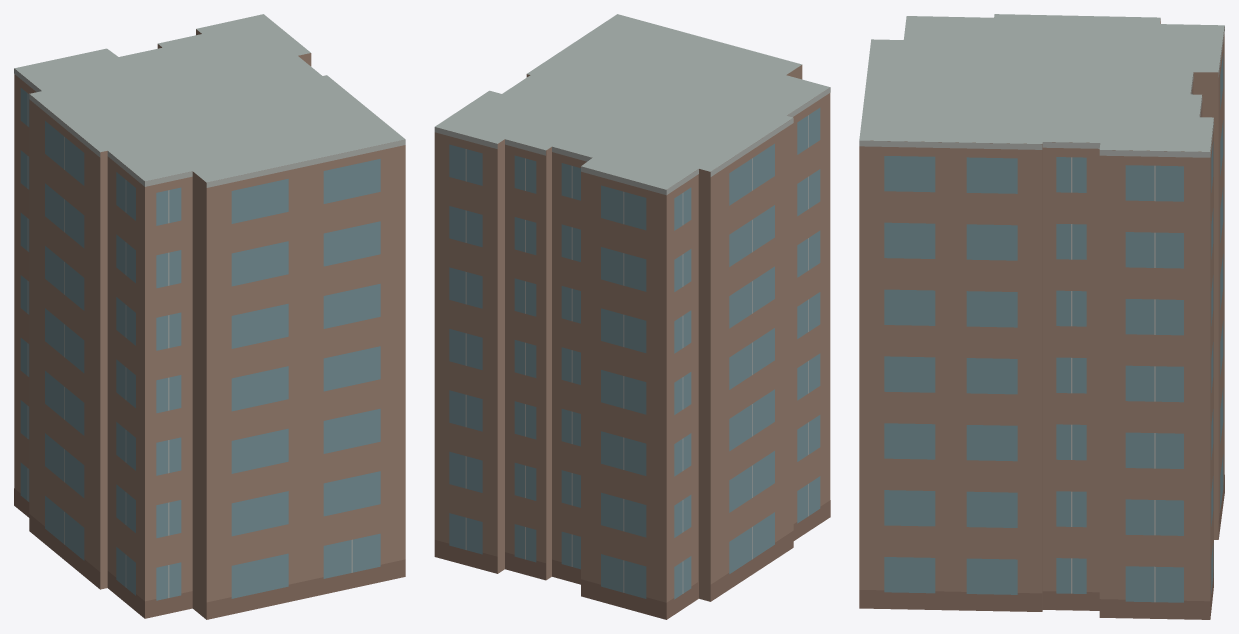
File: survey-upis-32924723.glb
3 renders of one model, left to right at view 1: azimuth 30°, elevation 25°; view 2: azimuth 150°, elevation 25°; view 3: azimuth 270°, elevation 25°, orthographic. The views are drawn at different scales.
Visible parts, largest first — view 1: survey-upis-32924723.tmp; view 2: survey-upis-32924723.tmp; view 3: survey-upis-32924723.tmp.
Boxes of the visible parts, x1,y1,x2,y2 form: survey-upis-32924723.tmp: (14,14,405,619); survey-upis-32924723.tmp: (434,14,830,619); survey-upis-32924723.tmp: (859,14,1224,619).
Bounding box in the file's own units: 12.31 × 19.45 × 13.78.
